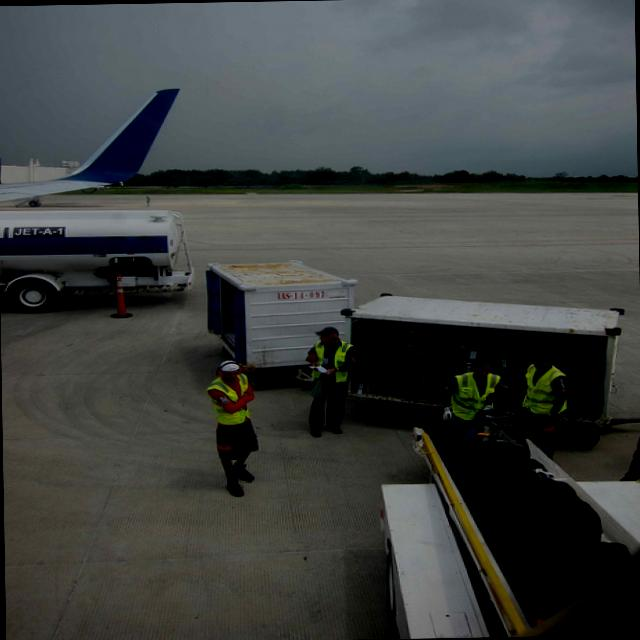Vehicle: (199, 249, 640, 452), (364, 424, 640, 639), (0, 205, 195, 313)
